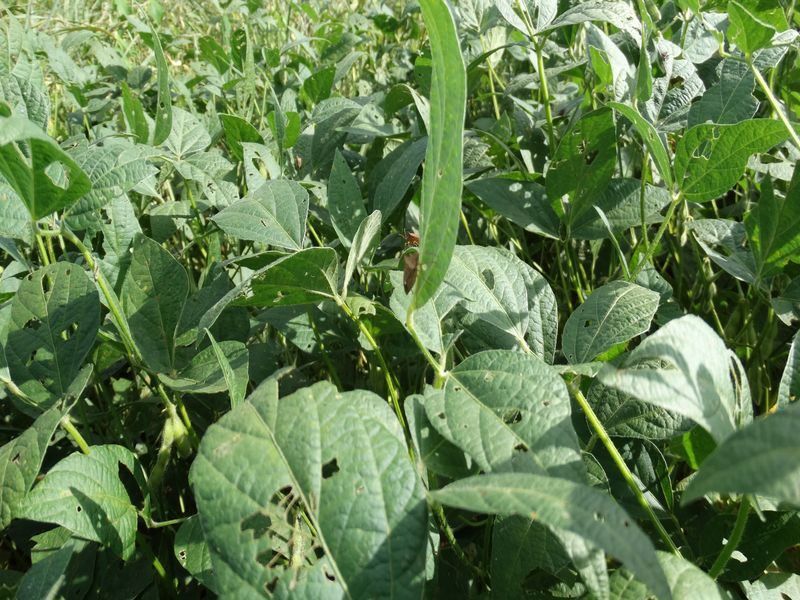Euschistus_heros_adulto: (394, 250, 427, 297)
